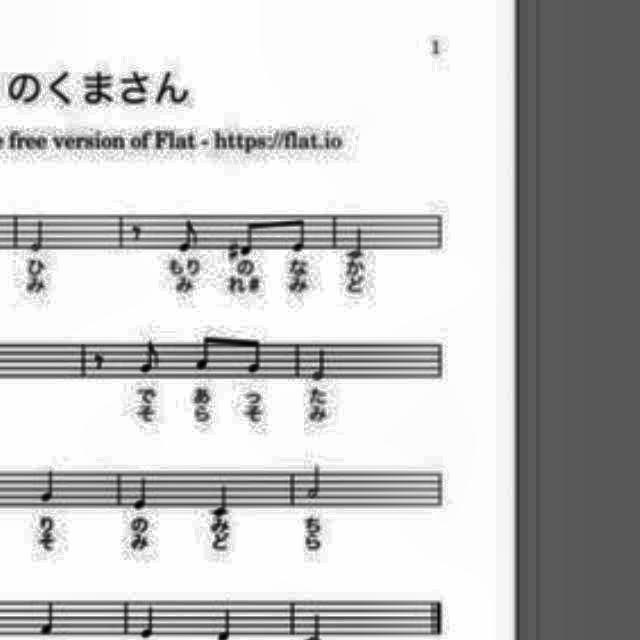Eighth-note: (132, 338, 172, 380), (284, 208, 312, 256), (191, 327, 217, 378), (175, 212, 203, 258), (238, 216, 262, 260), (245, 336, 269, 376)
Eighth-rest: (126, 219, 150, 245), (90, 350, 110, 374)
Half-note: (339, 224, 376, 260), (299, 462, 327, 506), (309, 343, 335, 387), (24, 217, 48, 256)
Quarter-note: (33, 466, 63, 509), (206, 480, 234, 520), (37, 595, 61, 640), (134, 602, 162, 640), (128, 470, 152, 514)
